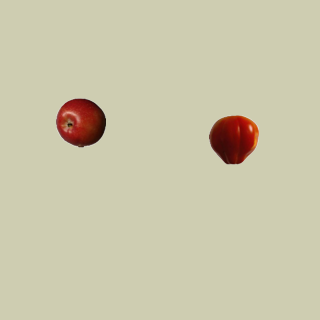Apple Braeburn: (55, 97, 105, 147)
Tomato 1: (208, 114, 258, 164)
